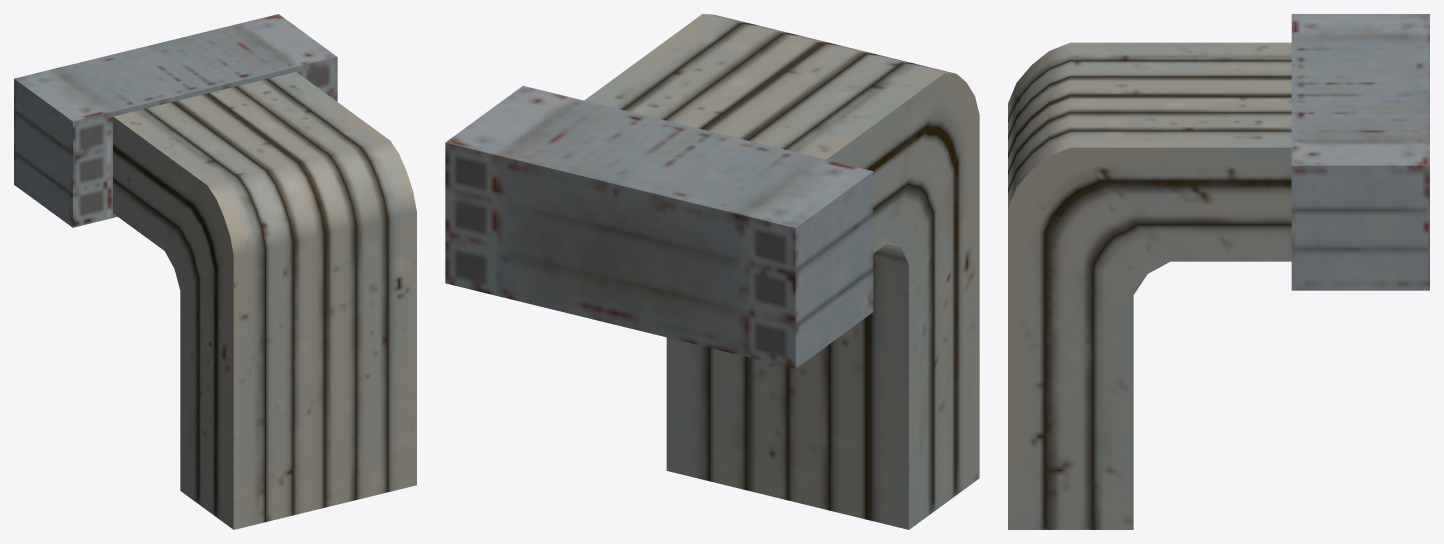
File: Cable_05a_snaps019.fbx
3 renders of one model, left to right at view 1: azimuth 30°, elevation 25°; view 2: azimuth 150°, elevation 25°; view 3: azimuth 270°, elevation 25°, orthographic. The views are drawn at different scales.
Parts seen in each view (by area): view 1: Cable_05a_snaps019_LOD0; view 2: Cable_05a_snaps019_LOD0; view 3: Cable_05a_snaps019_LOD0.
Part boxes in pixels (x1,y1,x2,y2): Cable_05a_snaps019_LOD0: (14,14,416,529); Cable_05a_snaps019_LOD0: (445,14,979,529); Cable_05a_snaps019_LOD0: (1008,14,1429,529).
Size of what is drawn, in the model's own units: 13.01 by 15.5 by 15.27.
